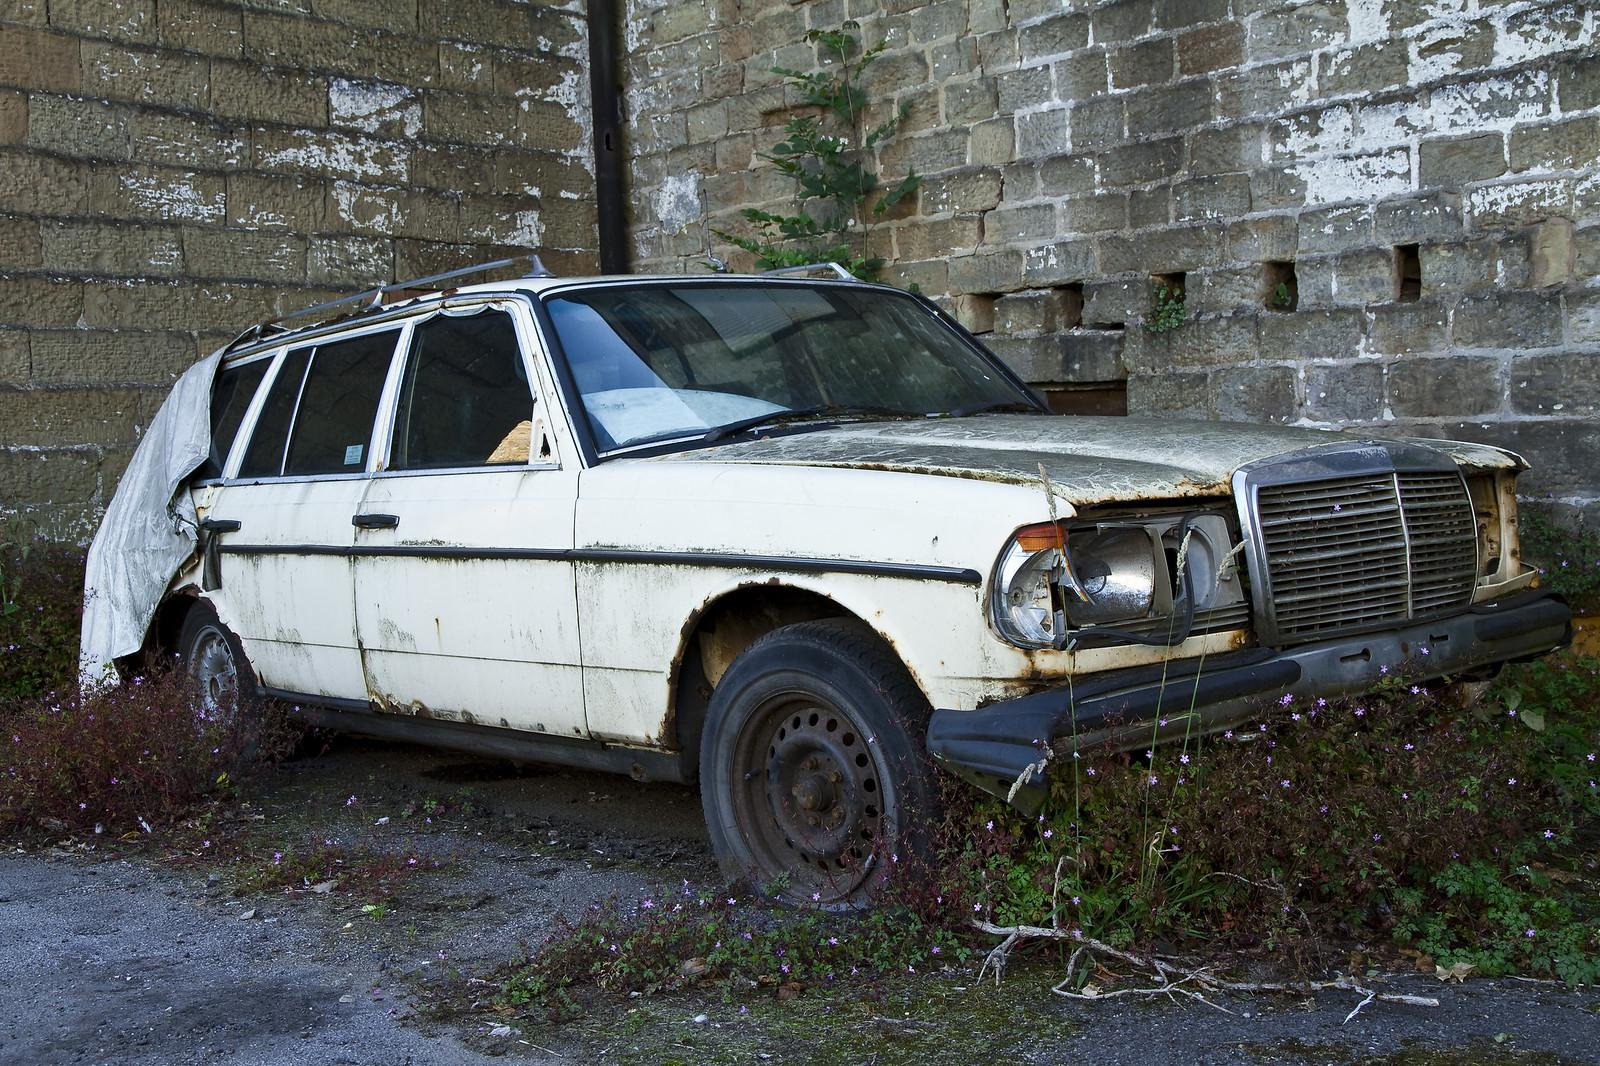Headlight-Damage: (989, 465, 1240, 673)
bonnet-dent: (663, 380, 1535, 523)
doorouter-dent: (356, 470, 607, 717), (168, 493, 358, 717)
fender-dent: (583, 460, 1015, 750)
